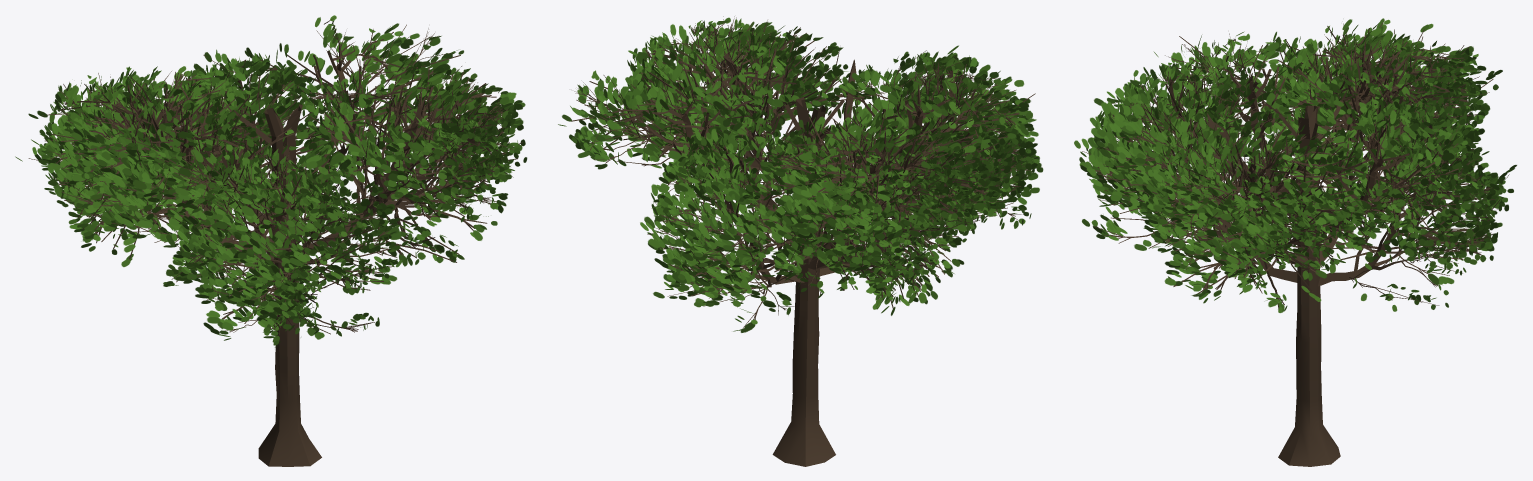
3 views of the same model, side by side, from view 1: azimuth 30°, elevation 25°; view 2: azimuth 150°, elevation 25°; view 3: azimuth 270°, elevation 25° (orthographic). The views are drawn at different scales.
Visible parts, largest first — view 1: oak 01.001_trunk_Mat.001_0.124; view 2: oak 01.001_trunk_Mat.001_0.124; view 3: oak 01.001_trunk_Mat.001_0.124.
Boxes of the visible parts, x1,y1,x2,y2 form: oak 01.001_trunk_Mat.001_0.124: (15, 15, 527, 466); oak 01.001_trunk_Mat.001_0.124: (558, 16, 1043, 466); oak 01.001_trunk_Mat.001_0.124: (1074, 18, 1516, 466).
Size of the model in its own units: 6.77 by 5.51 by 6.21.
Materials: 2 (1 with a texture image).
